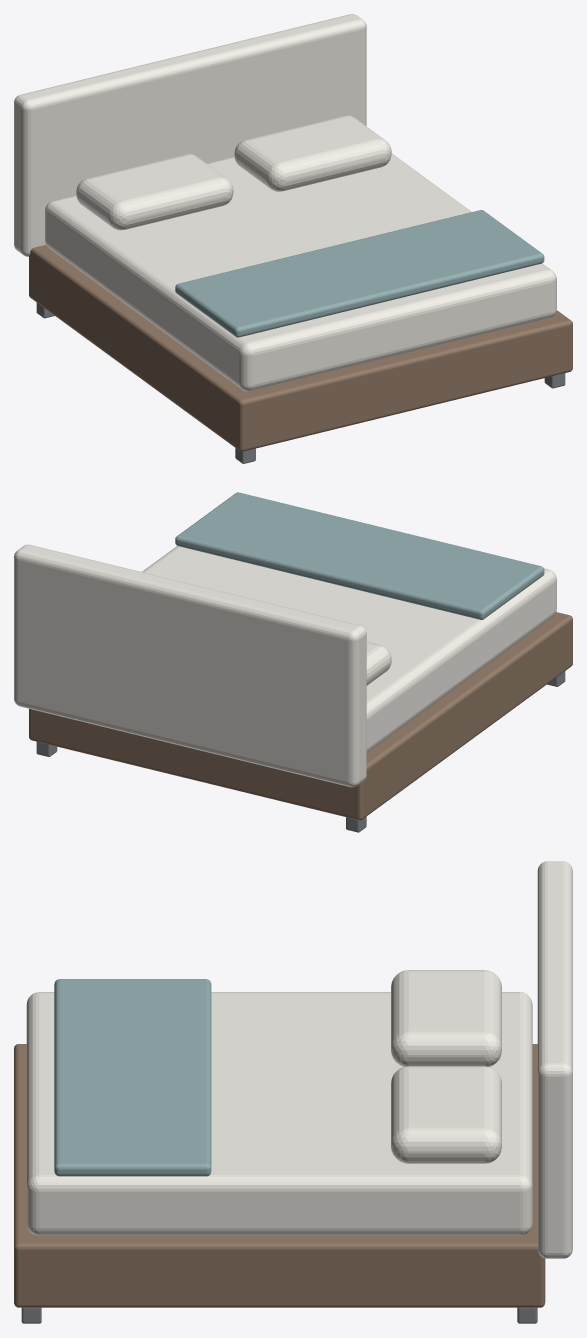
Rendered from bed_double.glb.
3 renders of one model, top to bottom at view 1: azimuth 30°, elevation 25°; view 2: azimuth 150°, elevation 25°; view 3: azimuth 270°, elevation 25°, orthographic. The views are drawn at different scales.
Parts seen in each view (by area): view 1: bed_double_2, bed_double_0, bed_double_5, bed_double_1; view 2: bed_double_2, bed_double_0, bed_double_5, bed_double_1; view 3: bed_double_2, bed_double_0, bed_double_5, bed_double_1.
Boxes of the visible parts, x1,y1,x2,y2 form: bed_double_2: (14, 14, 556, 391); bed_double_0: (29, 245, 572, 451); bed_double_5: (175, 210, 544, 337); bed_double_1: (36, 303, 565, 463); bed_double_2: (14, 544, 556, 787); bed_double_0: (29, 612, 572, 820); bed_double_5: (175, 492, 544, 619); bed_double_1: (36, 671, 565, 832); bed_double_2: (26, 861, 572, 1258); bed_double_0: (14, 1044, 545, 1307); bed_double_5: (54, 979, 211, 1176); bed_double_1: (21, 1307, 537, 1323).
Size of the model in its own units: 1.96 by 1.15 by 2.21.
